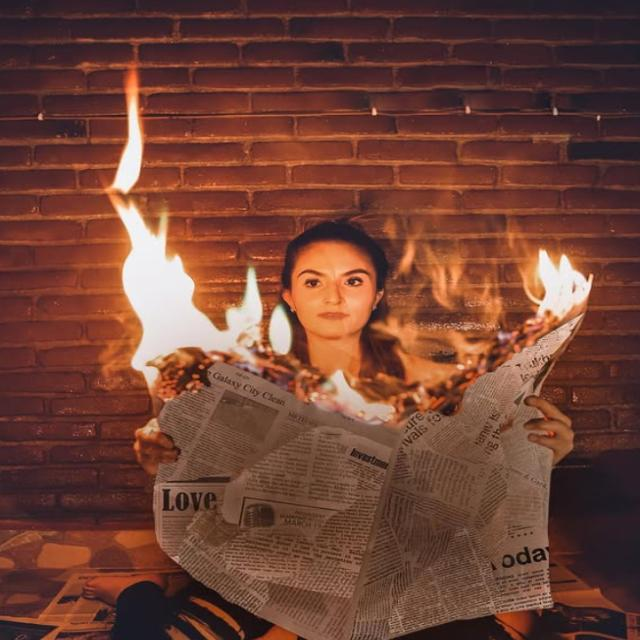fire: (108, 190, 220, 386), (520, 251, 592, 321), (311, 370, 396, 425), (112, 67, 143, 193), (223, 266, 261, 362)
